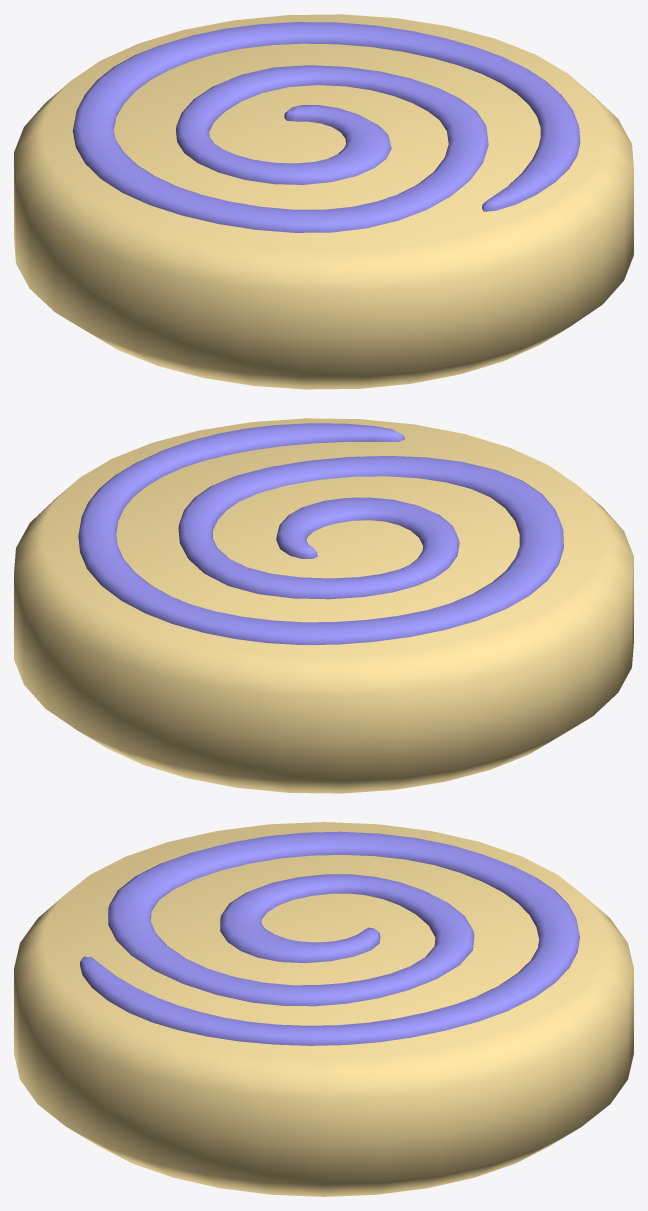
Rendered from sweet_blue.fbx.
The picture shows the model from 3 angles, top to bottom: view 1: azimuth 30°, elevation 25°; view 2: azimuth 150°, elevation 25°; view 3: azimuth 270°, elevation 25°; orthographic projection.
Visible parts, largest first — view 1: Cylinder, Plane; view 2: Cylinder, Plane; view 3: Cylinder, Plane.
Part boxes in pixels (bbox=[...]): Cylinder: bbox=[14, 14, 633, 389]; Plane: bbox=[72, 22, 580, 232]; Cylinder: bbox=[14, 418, 633, 793]; Plane: bbox=[78, 423, 563, 644]; Cylinder: bbox=[14, 822, 633, 1196]; Plane: bbox=[80, 831, 579, 1045].
Size of the model in its own units: 0.3016 by 0.0859 by 0.3016.
